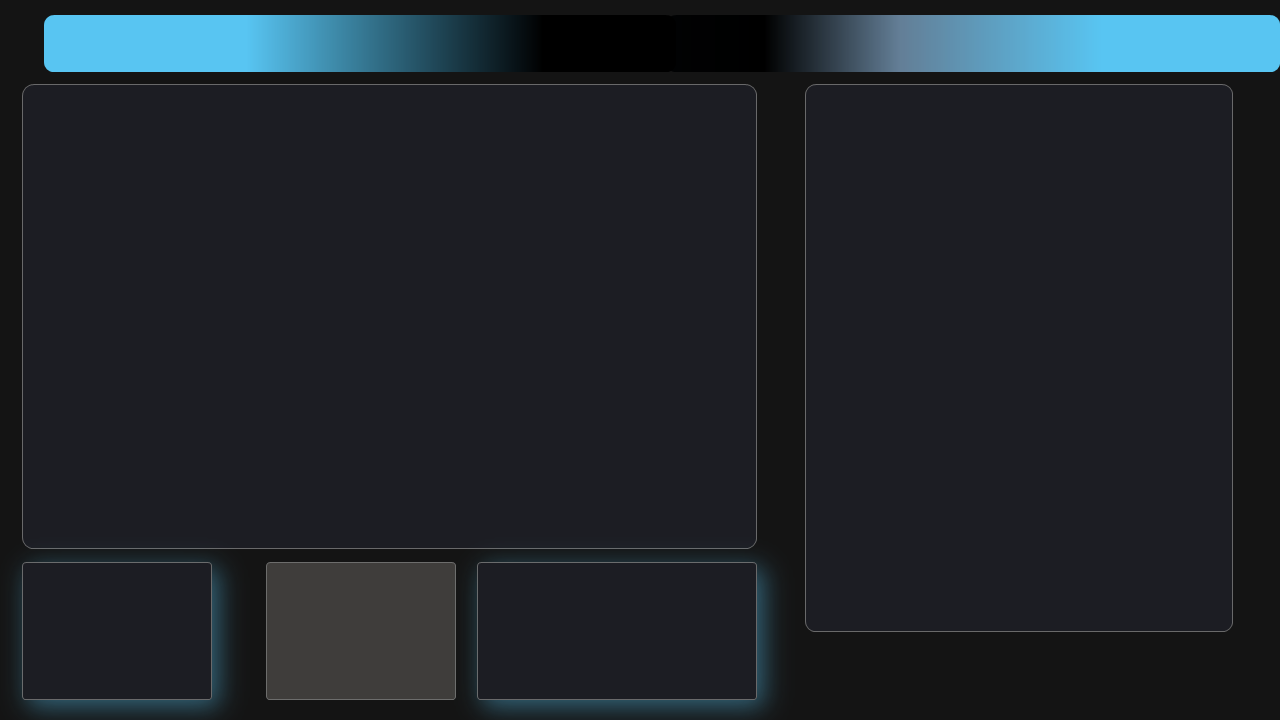

The page's visual inventory and layout, read from the dashboard file:
{"tool":"powerbi","page":{"name":"Page 1","canvas":[1280,720],"ordinal":0},"visuals":[{"type":"cardVisual","fields":{"Data":["DAX crib.Total non renewable","DAX crib.Total renewable","DAX crib.Total energy consumption","DAX crib.Emmission factor( kgs co2)","DAX crib.energy cost per kwh"]},"box":[42.5,83.6,214,449.3],"z":0},{"type":"shape","box":[42.5,446.5,214,81],"z":1000},{"type":"slicer","fields":{"Values":["Switchable measures .Switchable measures "]},"box":[418.1,93.5,330.2,76.5],"z":2000},{"type":"columnChart","fields":{"Category":["Data.Location","year table.Year"],"Y":["year table.YoY change"]},"box":[252.3,199.8,496.1,320.3],"z":3000},{"type":"card","fields":{"Values":["DAX crib.% renewable energy share"]},"box":[42.5,593.9,137.5,79.4],"z":4000},{"type":"textbox","box":[35.4,568.3,151.7,51],"z":5000},{"type":"textbox","box":[290.6,568.3,151.7,51],"z":6000},{"type":"textbox","box":[532.9,557,134.6,51],"z":7000},{"type":"card","fields":{"Values":["DAX crib.% Non renewable share"]},"box":[290.6,608,137.5,79.4],"z":8000},{"type":"card","fields":{"Values":["DAX crib.% renewable energy share"]},"box":[514.5,593.9,137.5,79.4],"z":9000},{"type":"lineChart","fields":{"Category":["Calendar.Month"],"Y":["Switchable measures .Group measures"]},"box":[812.1,112,415.3,286.3],"z":10000},{"type":"clusteredBarChart","fields":{"Category":["Calendar.Seasons"],"Y":["Switchable measures .Group measures"]},"box":[812.1,418.1,415.3,269.3],"z":11000},{"type":"textbox","box":[42.5,14.2,348.7,55.3],"z":12000},{"type":"shape","box":[42.5,355.7,214,83.6],"z":13000},{"type":"shape","box":[42.5,260.8,214,87.9],"z":14000},{"type":"shape","box":[42.5,175.7,214,79.4],"z":15000},{"type":"shape","box":[42.5,83.6,214,86.5],"z":16000},{"type":"card","fields":{"Values":["DAX crib.Energy cost summary"]},"box":[720,14.2,559.8,62.4],"z":17000}]}

Visuals, with their boxes in screenshot pixels (x1, y1, x2, y2), scaled from the page's 1280x720 canvas onto the 1280x720 screenshot:
cardVisual - DAX crib.Total non renewable x DAX crib.Total renewable: [42,84,256,533]
shape: [42,446,256,528]
slicer - Switchable measures .Switchable measures : [418,94,748,170]
columnChart - Data.Location x year table.Year: [252,200,748,520]
card - DAX crib.% renewable energy share: [42,594,180,673]
textbox: [35,568,187,619]
textbox: [291,568,442,619]
textbox: [533,557,668,608]
card - DAX crib.% Non renewable share: [291,608,428,687]
card - DAX crib.% renewable energy share: [514,594,652,673]
lineChart - Calendar.Month x Switchable measures .Group measures: [812,112,1227,398]
clusteredBarChart - Calendar.Seasons x Switchable measures .Group measures: [812,418,1227,687]
textbox: [42,14,391,70]
shape: [42,356,256,439]
shape: [42,261,256,349]
shape: [42,176,256,255]
shape: [42,84,256,170]
card - DAX crib.Energy cost summary: [720,14,1279,77]
